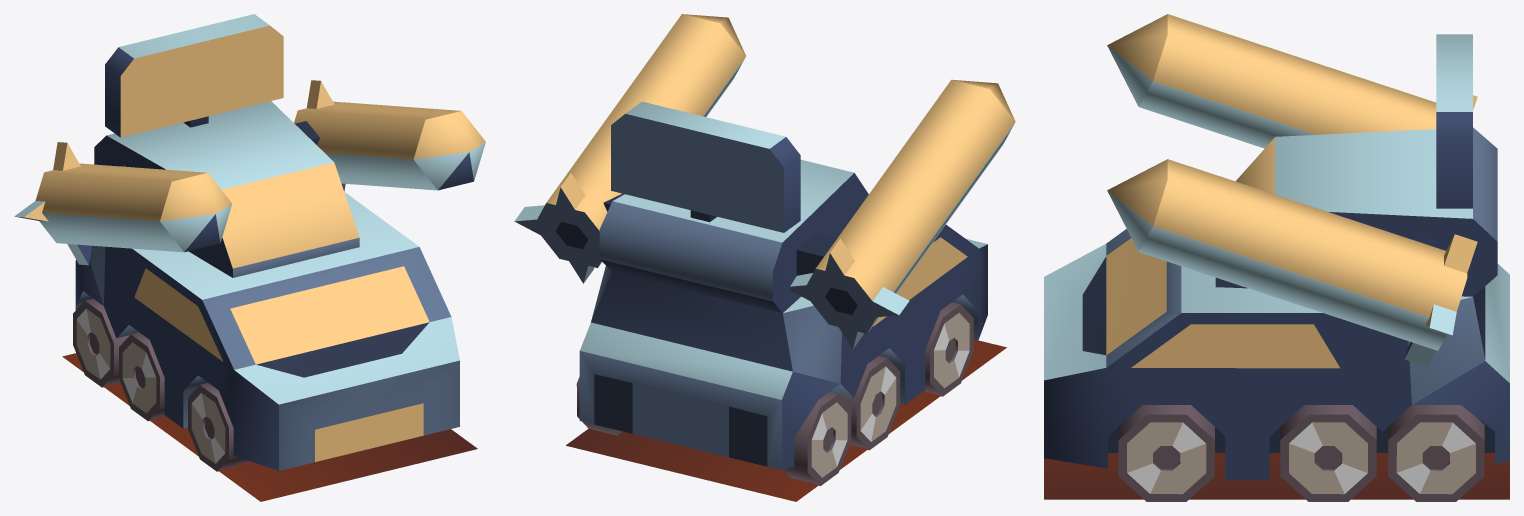
File: MissileMesh.SilverClaw.glb
3 views of the same model, side by side, from view 1: azimuth 30°, elevation 25°; view 2: azimuth 150°, elevation 25°; view 3: azimuth 270°, elevation 25° (orthographic). The views are drawn at different scales.
Visible parts, largest first — view 1: MissileMesh.SilverClaw; view 2: MissileMesh.SilverClaw; view 3: MissileMesh.SilverClaw.
Part boxes in pixels (x1,y1,x2,y2): MissileMesh.SilverClaw: (14, 14, 485, 501); MissileMesh.SilverClaw: (514, 14, 1015, 501); MissileMesh.SilverClaw: (1044, 14, 1509, 501).
Bounding box in the file's own units: 2 × 1.65 × 1.9.
Materials: 1 (1 with a texture image).
